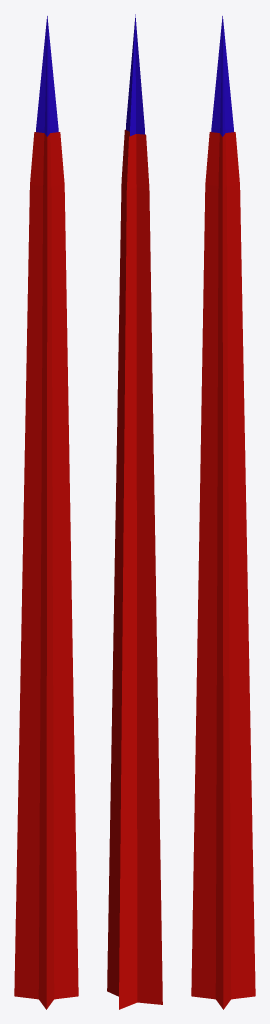
File: Spike.fbx
3 views of the same model, side by side, from view 1: azimuth 90°, elevation 25°; view 2: azimuth 150°, elevation 25°; view 3: azimuth 270°, elevation 25° (orthographic).
Parts seen in each view (by area): view 1: Plane; view 2: Plane; view 3: Plane.
Part boxes in pixels (bbox=[...]): Plane: bbox=[14, 16, 78, 1009]; Plane: bbox=[107, 14, 162, 1009]; Plane: bbox=[191, 16, 255, 1009].
Bounding box in the file's own units: 200 × 3371 × 200.
